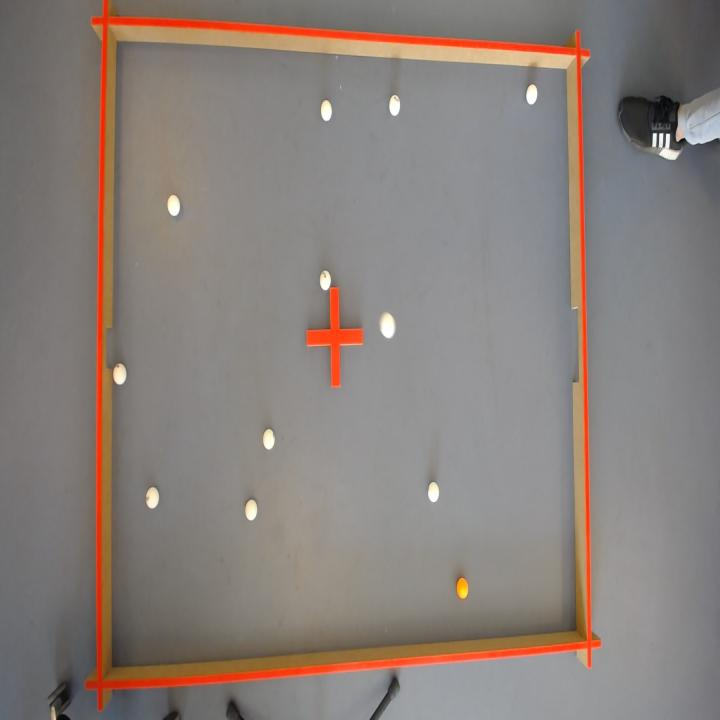orange: (457, 578, 469, 599)
white: (380, 312, 395, 338), (245, 498, 258, 522), (167, 195, 180, 216), (114, 363, 126, 385), (526, 84, 538, 105), (146, 488, 158, 509), (320, 269, 331, 291), (263, 427, 274, 449), (428, 482, 439, 502), (322, 100, 332, 121), (390, 95, 400, 116)
